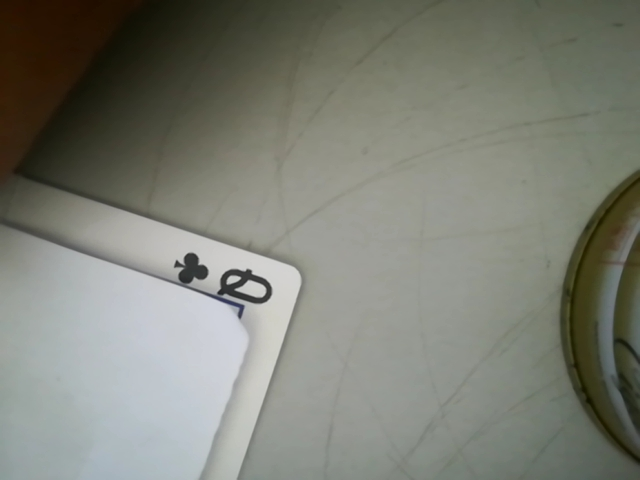mh q: (156, 243, 294, 313)
